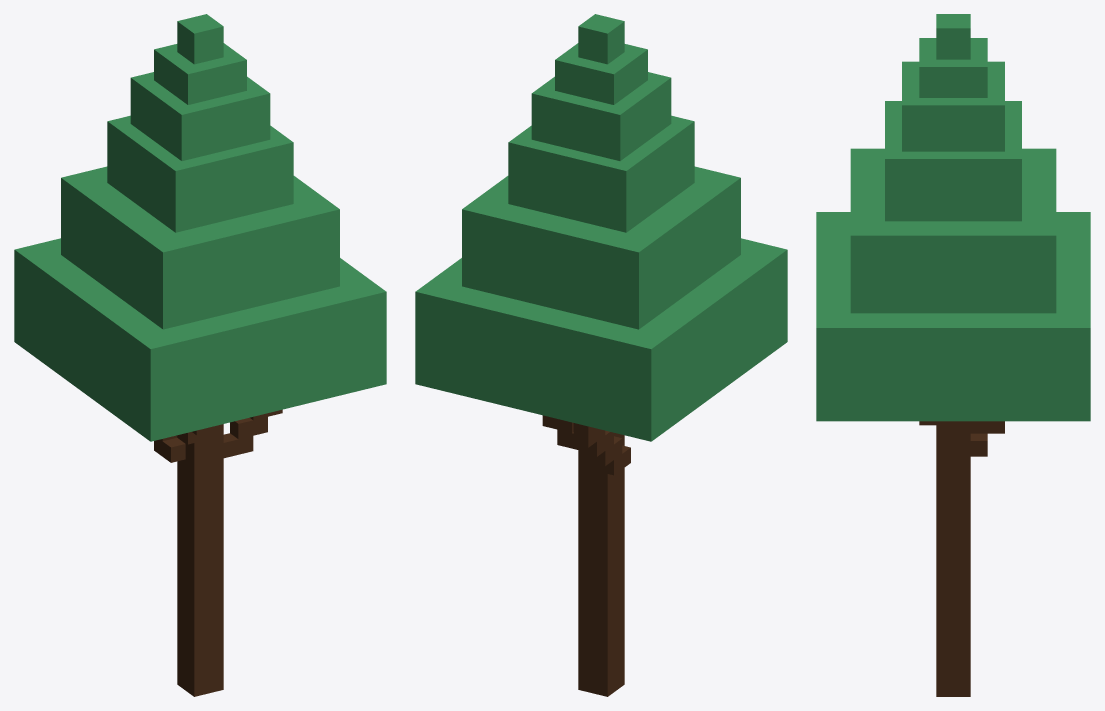
The model's file is Background_A_tree_01.FBX.
The picture shows the model from 3 angles, left to right: view 1: azimuth 30°, elevation 25°; view 2: azimuth 150°, elevation 25°; view 3: azimuth 270°, elevation 25°; orthographic projection.
Visible parts, largest first — view 1: Load_A-25; view 2: Load_A-25; view 3: Load_A-25.
Part boxes in pixels (x1,y1,x2,y2): Load_A-25: (14, 14, 386, 696); Load_A-25: (415, 14, 787, 696); Load_A-25: (816, 14, 1090, 696).
Size of the model in its own units: 1.6 by 4.3 by 1.6.
1 material, 1 textured.
